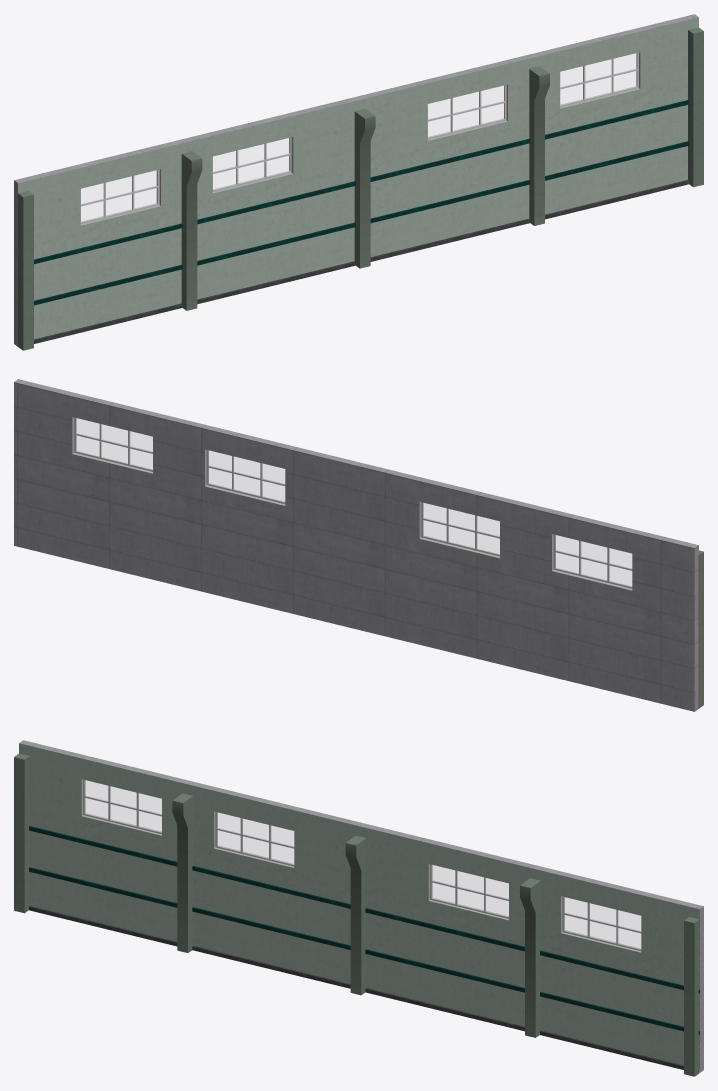
Rendered from WareMedium_Walls_Wind.glb.
3 renders of one model, top to bottom at view 1: azimuth 30°, elevation 25°; view 2: azimuth 150°, elevation 25°; view 3: azimuth 330°, elevation 25°, orthographic.
Visible parts, largest first — view 1: WareMedium_Walls_Wind, WareBig_Column, WareBig_Windglass, WareBig_W, WareBig_Wind; view 2: WareMedium_Walls_Wind, WareBig_Windglass, WareBig_Wind, WareBig_Column; view 3: WareMedium_Walls_Wind, WareBig_Column, WareBig_Windglass, WareBig_W, WareBig_Wind.
Boxes of the visible parts, x1,y1,x2,y2 form: WareMedium_Walls_Wind: (14,14,698,346); WareBig_Column: (18,27,703,350); WareBig_Windglass: (81,53,636,221); WareBig_W: (34,100,688,305); WareBig_Wind: (80,52,638,224); WareMedium_Walls_Wind: (14,379,698,711); WareBig_Windglass: (76,418,631,586); WareBig_Wind: (74,417,632,588); WareBig_Column: (698,550,703,708); WareMedium_Walls_Wind: (19,740,703,1073); WareBig_Column: (14,753,699,1076); WareBig_Windglass: (85,780,640,948); WareBig_W: (29,826,699,1034); WareBig_Wind: (83,779,641,950).
Bounding box in the file's own units: 38.08 × 8.75 × 1.38.
Materials: 8 (7 with a texture image).
